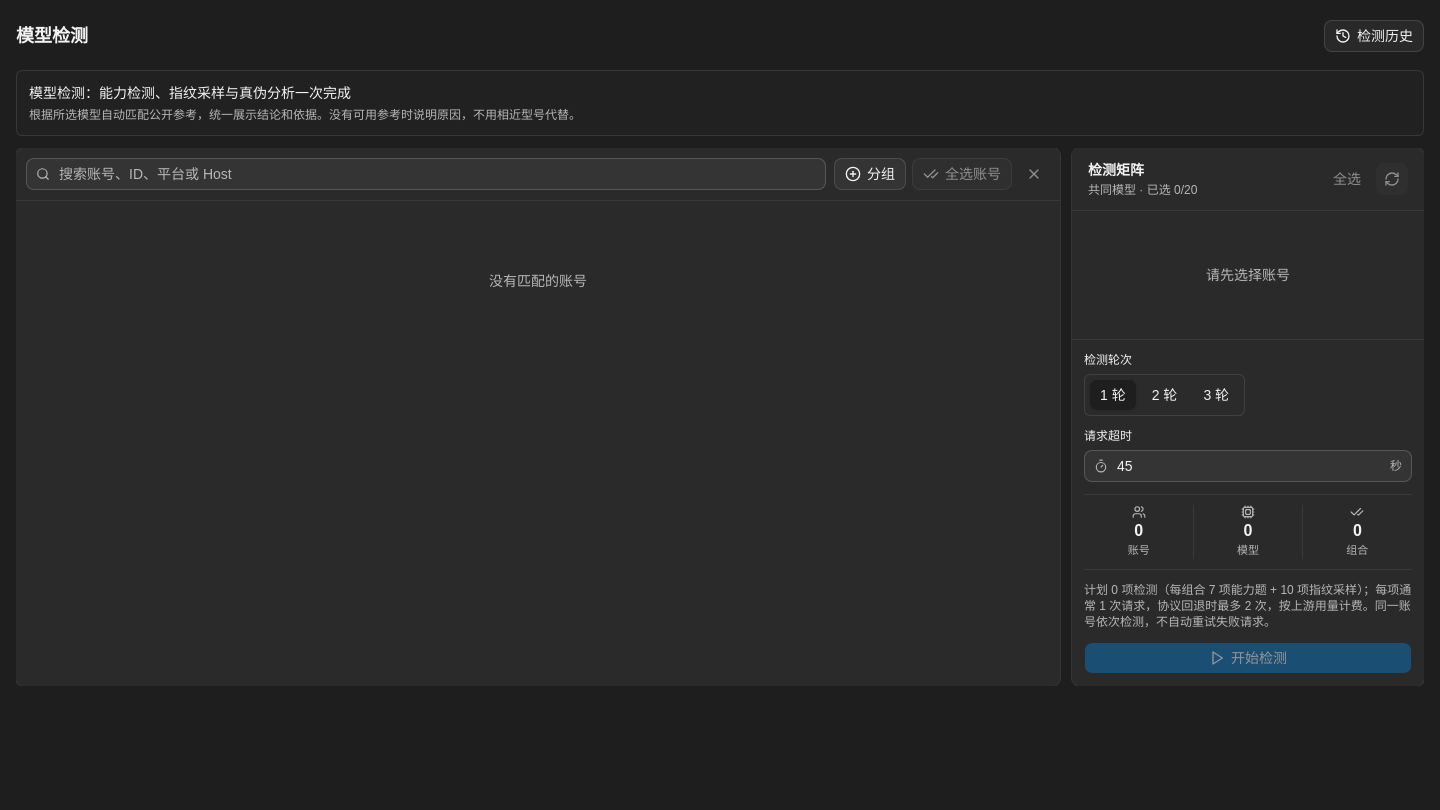
历史列表支持分页且空页保留上一页入口
The width and height of the screenshot is (1440, 810).
Click the button "检测历史".
click(1374, 36)  # box x1=1324 y1=20 x2=1424 y2=52
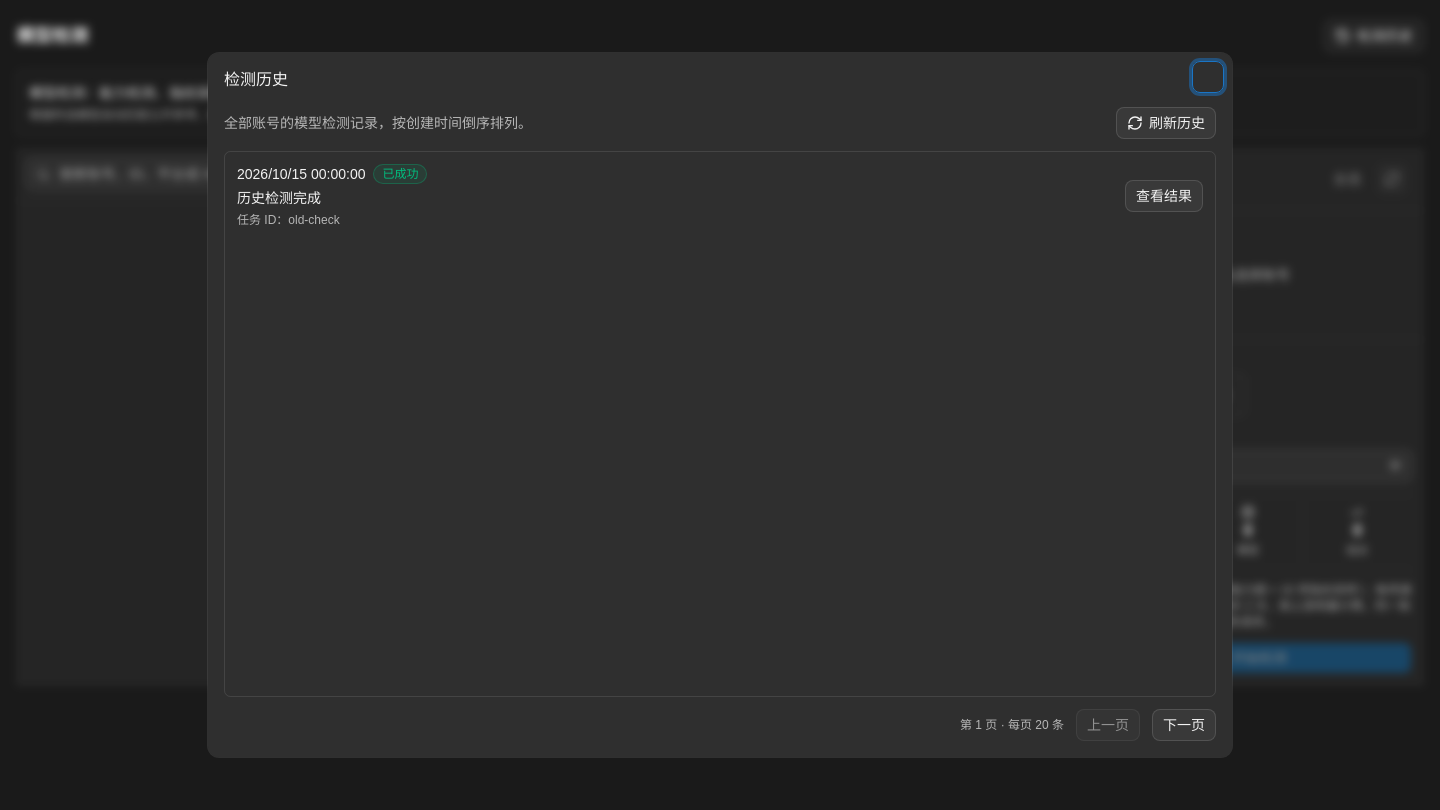
expect the text "历史检测完成" is shown: met, box x1=237 y1=190 x2=321 y2=206
Click the button "下一页".
click(1184, 725)  # box x1=1152 y1=709 x2=1216 y2=741
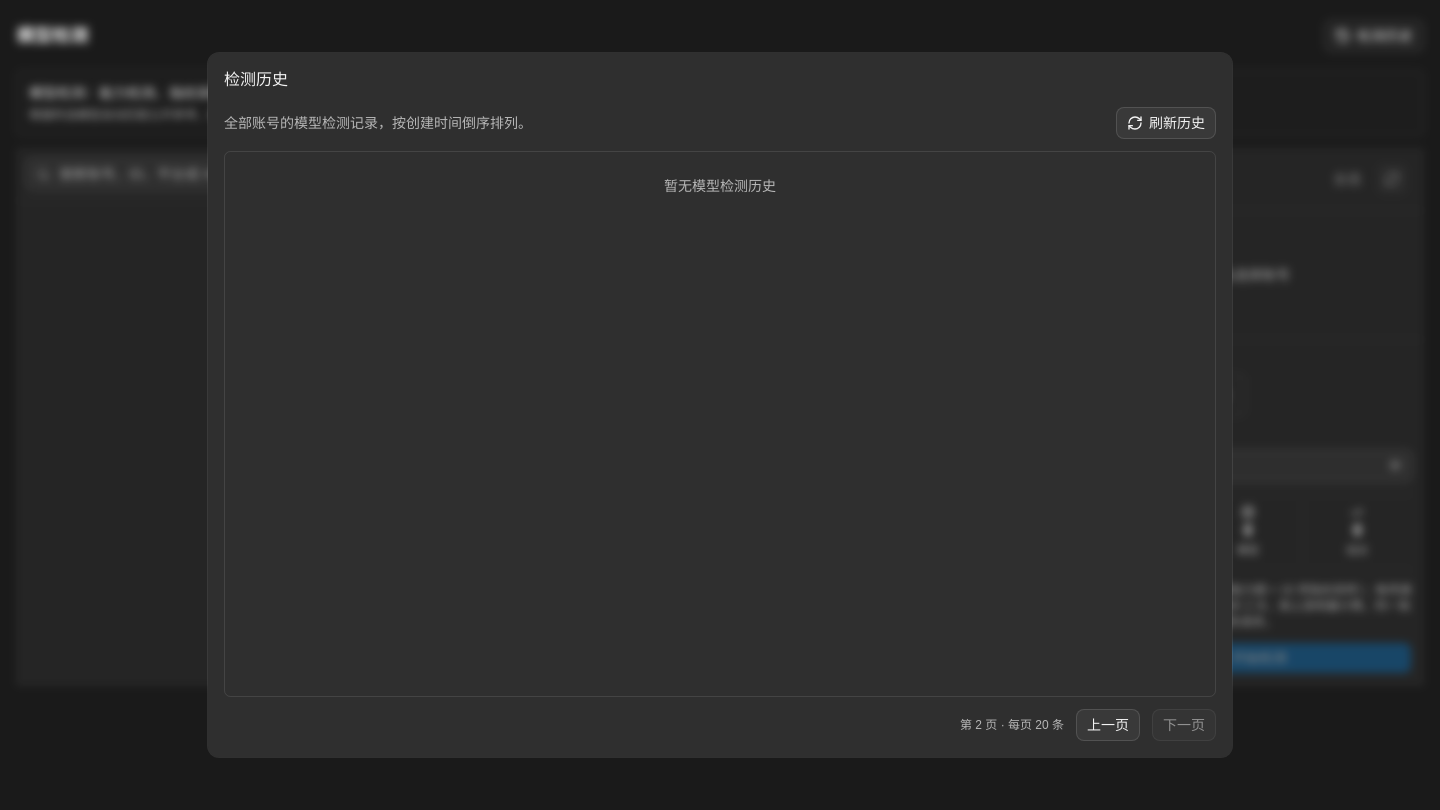
expect the text "暂无模型检测历史" is shown: met, box x1=664 y1=178 x2=776 y2=194
Click the button "上一页".
click(1108, 725)  # box x1=1076 y1=709 x2=1140 y2=741
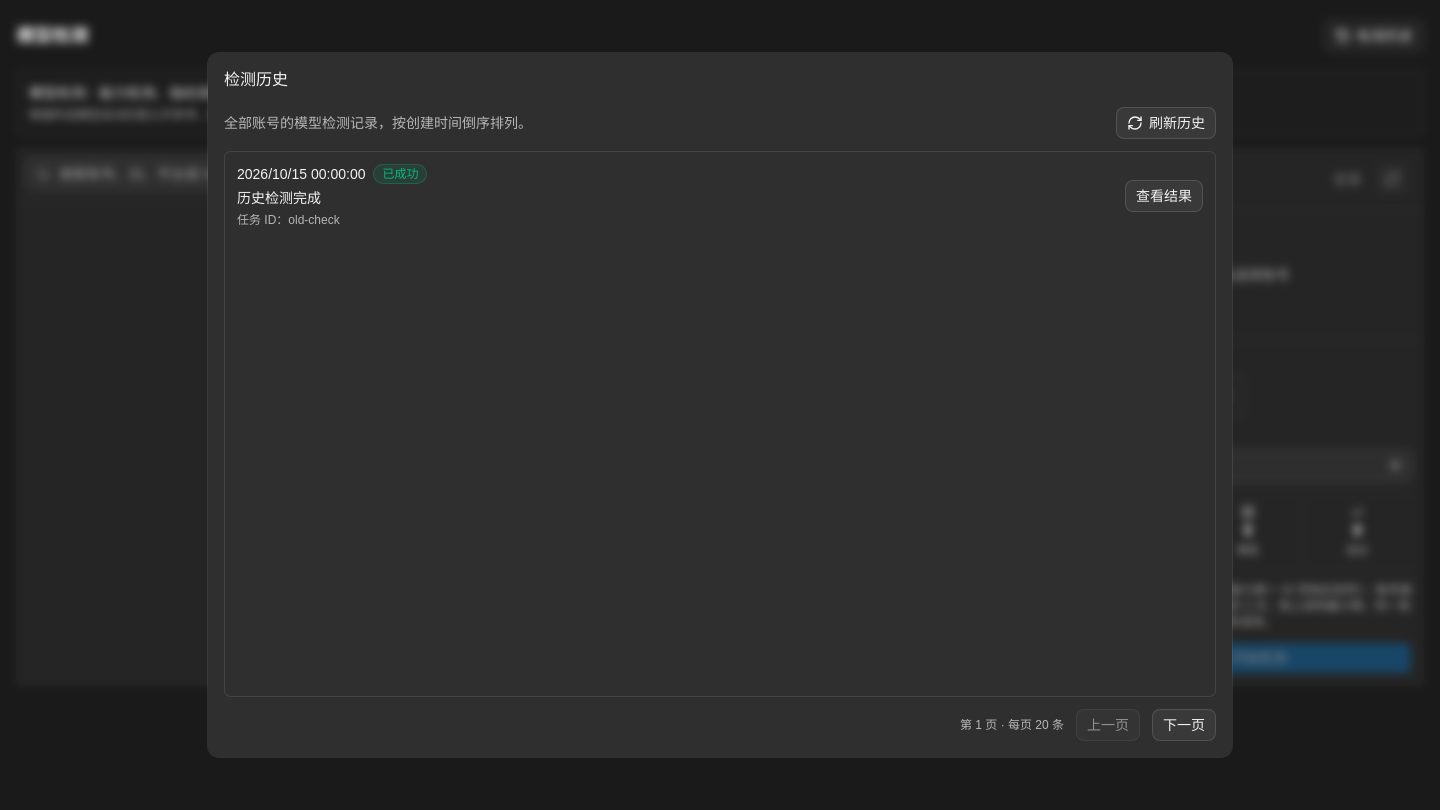
expect the text "历史检测完成" is shown: met, box x1=237 y1=190 x2=321 y2=206
